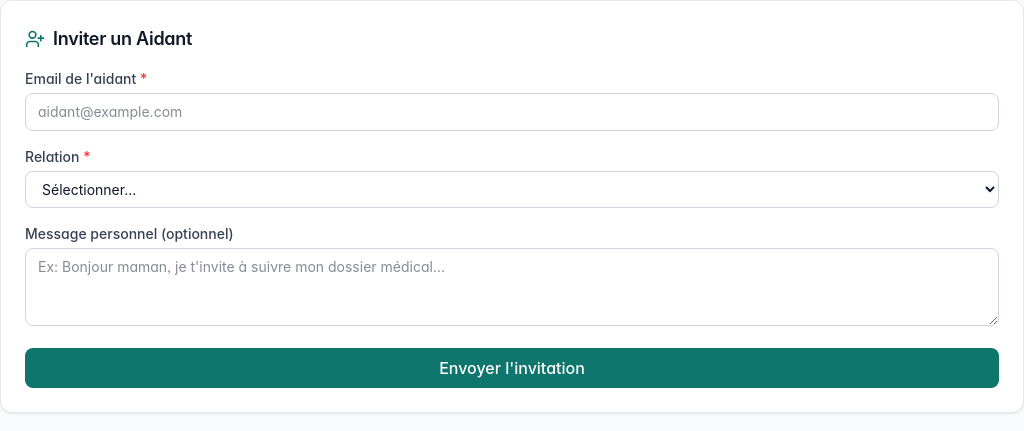
Test: CaregiverInviteForm Component › should disable submit button while loading
The width and height of the screenshot is (1024, 431).
Type "test@example.com" into the field with placeholder "aidant@example.com" at (512, 112), box 25,93 -> 999,131
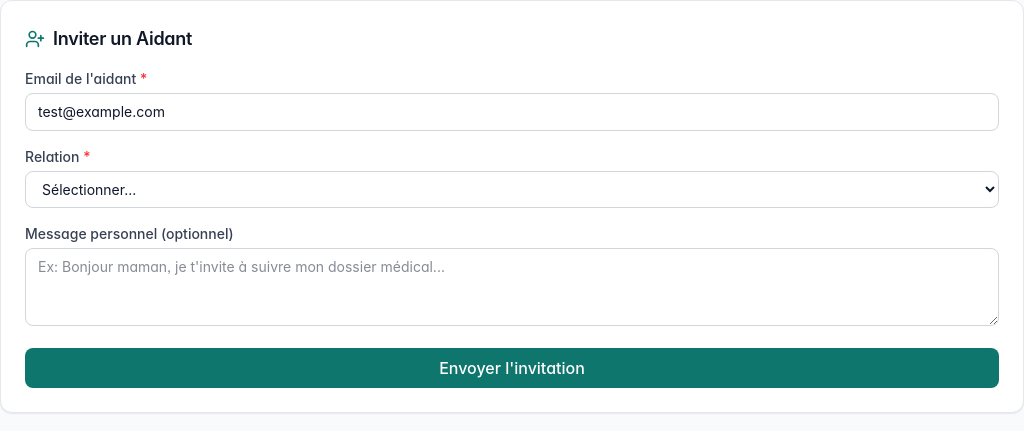
Select "Parent" in the dropdown at (512, 190), box 25,171 -> 999,208
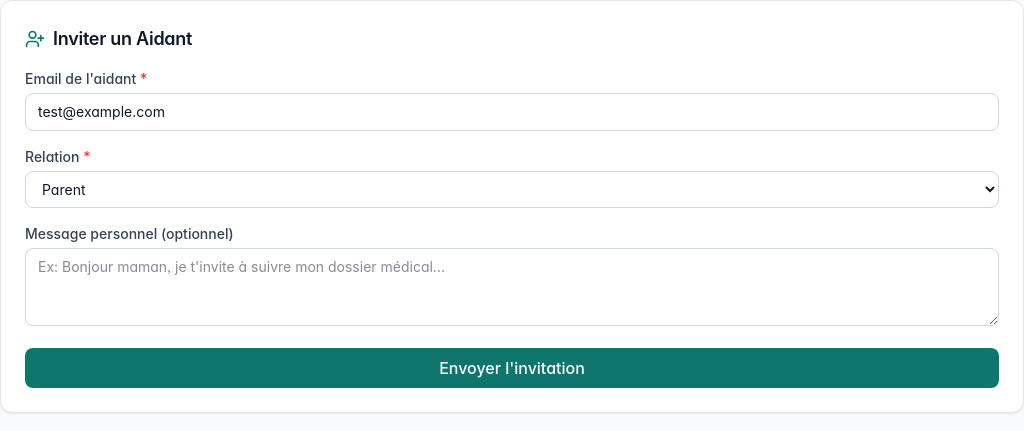
Click the button "Envoyer l'invitation" at (512, 368), box 25,348 -> 999,388
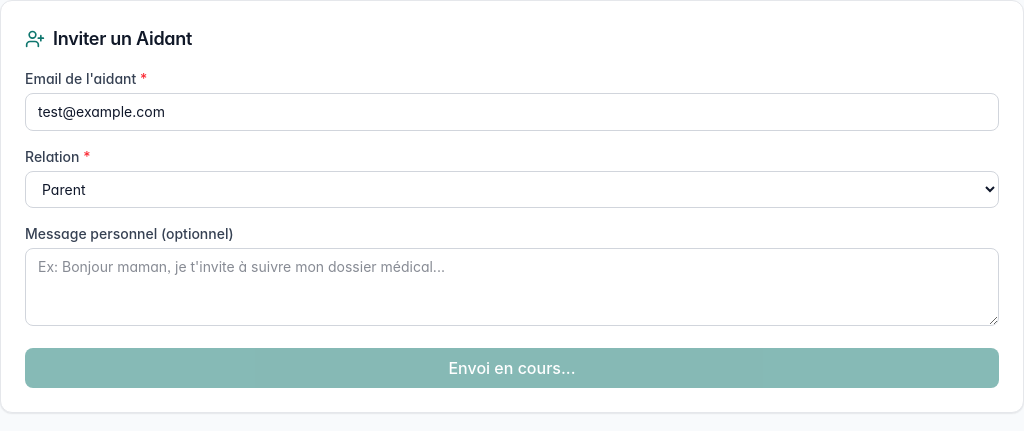
Check: the button named "Envoyer l'invitation" is disabled, box 25,348 -> 999,388
Check: the button named "Envoyer l'invitation" shows "Envoi en cours", box 25,348 -> 999,388
